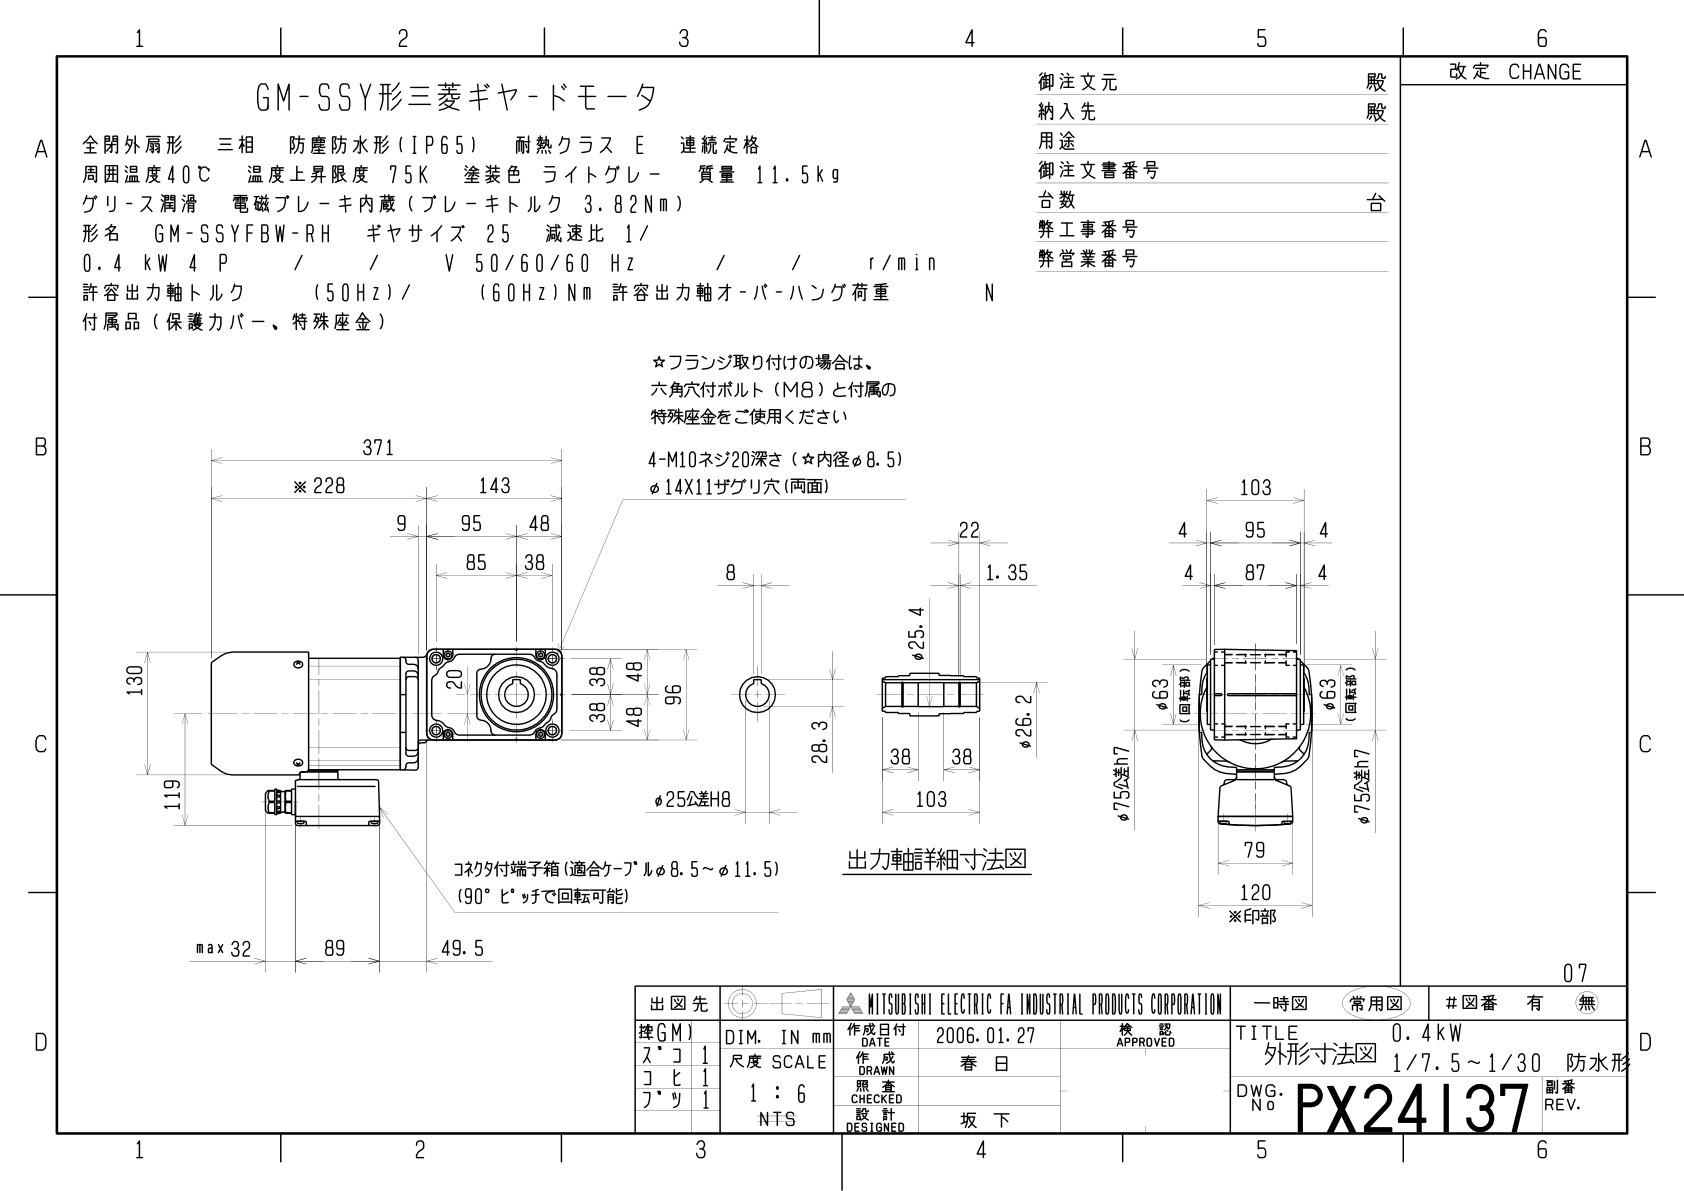GM_SSY_IP65_三相: (70, 336, 1386, 969)
